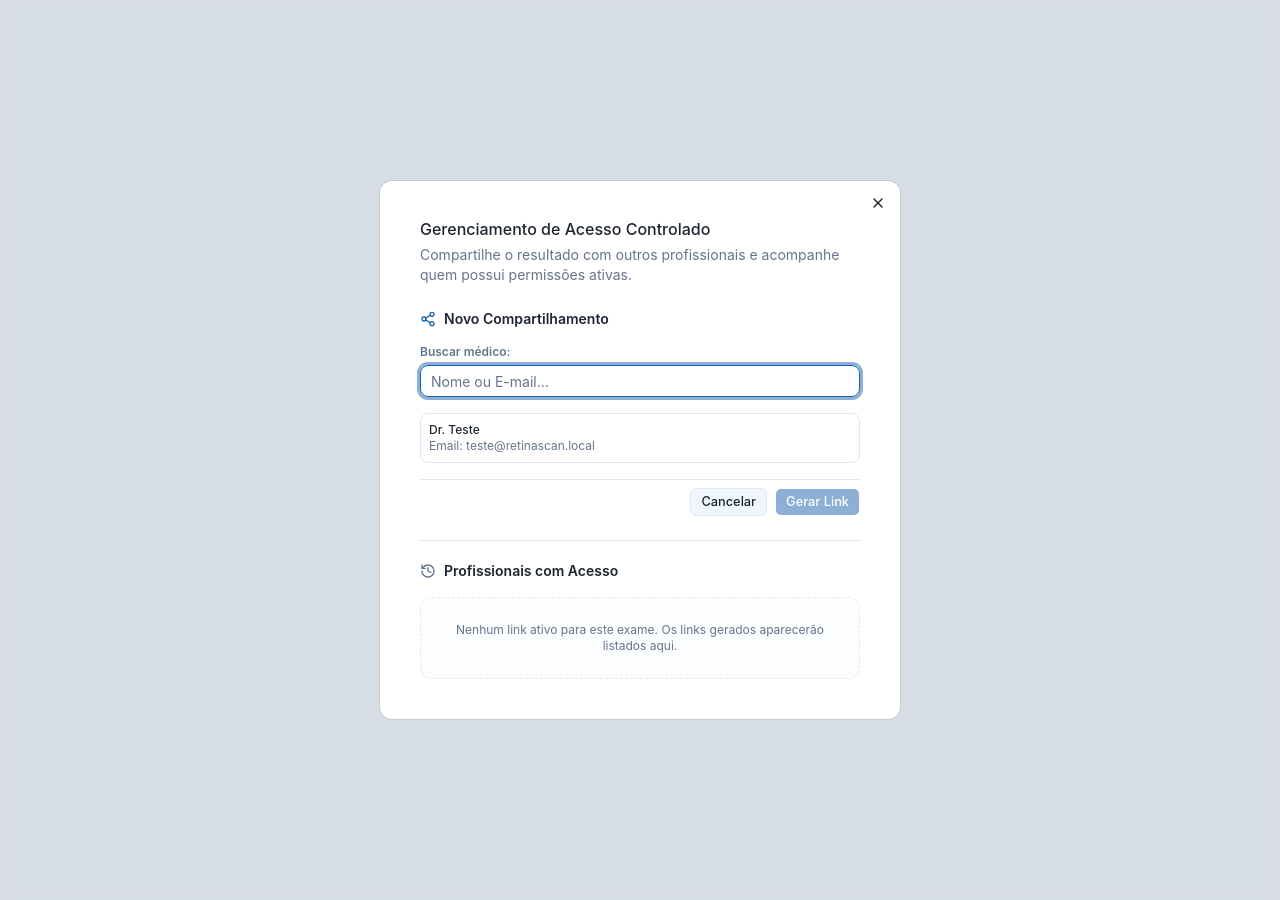
ModalCompartilhar Component › deve gerar o link de compartilhamento e exibir a tela de sucesso
This screenshot has width=1280, height=900.
Click the text "Dr. Teste": [454, 430] box [429,422,480,437]
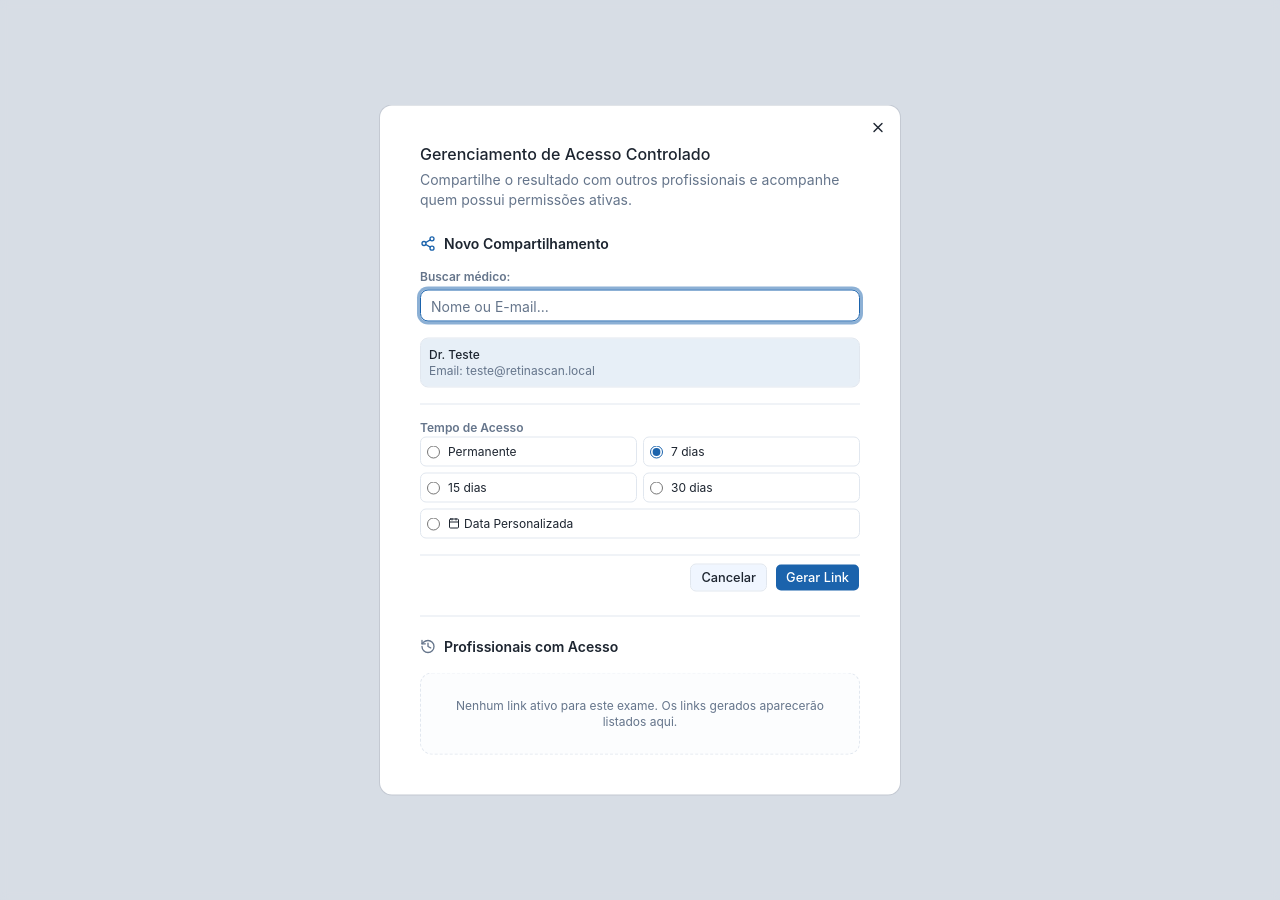
Click the button "Gerar Link": [818, 578] box [775,564,860,592]
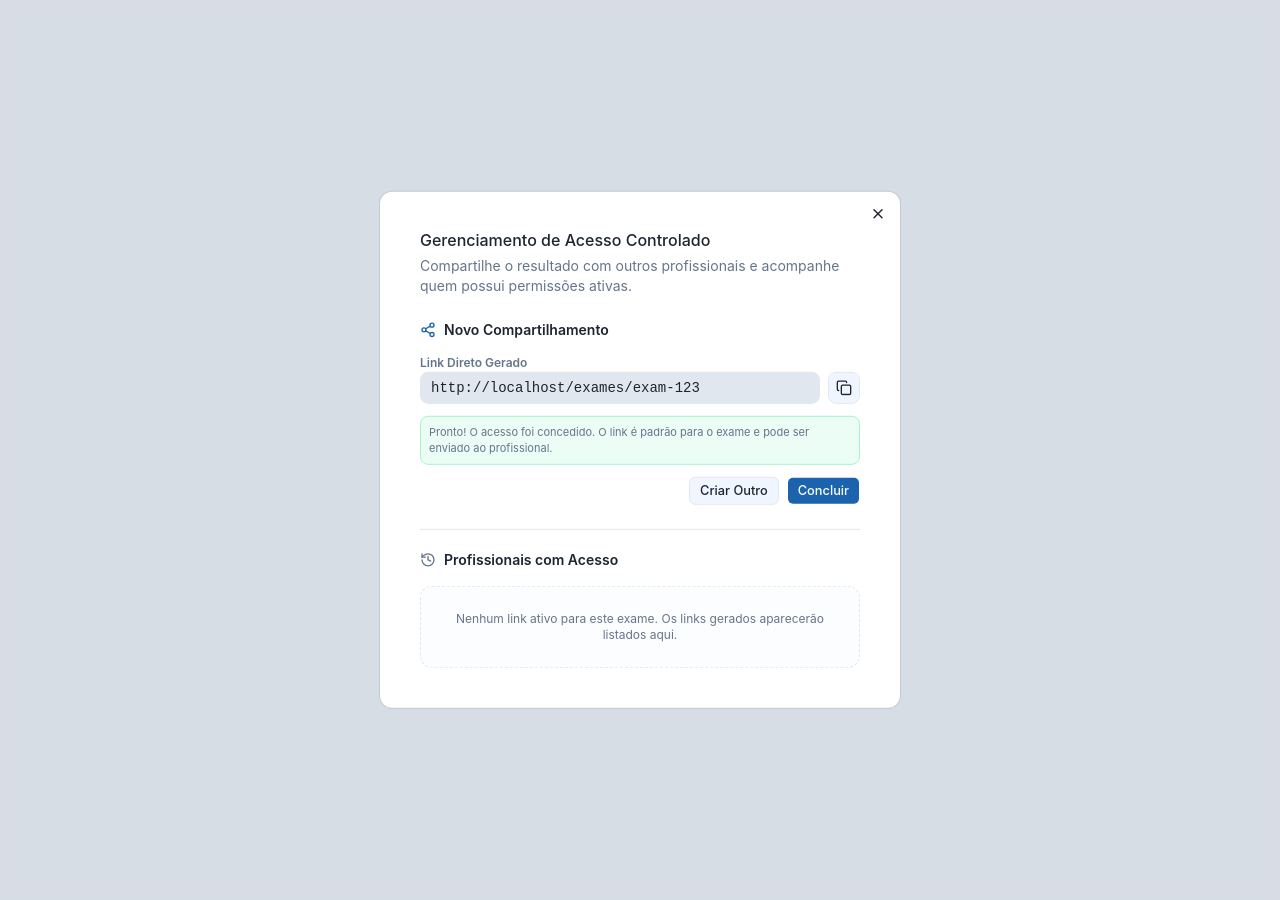
Result: the text "Link Direto Gerado" is shown at [420,355,527,370]
